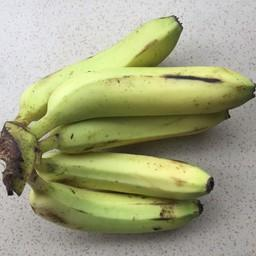Good_banana: (13, 15, 256, 113), (38, 173, 207, 244), (55, 99, 237, 152), (45, 68, 256, 111), (38, 147, 214, 198)
